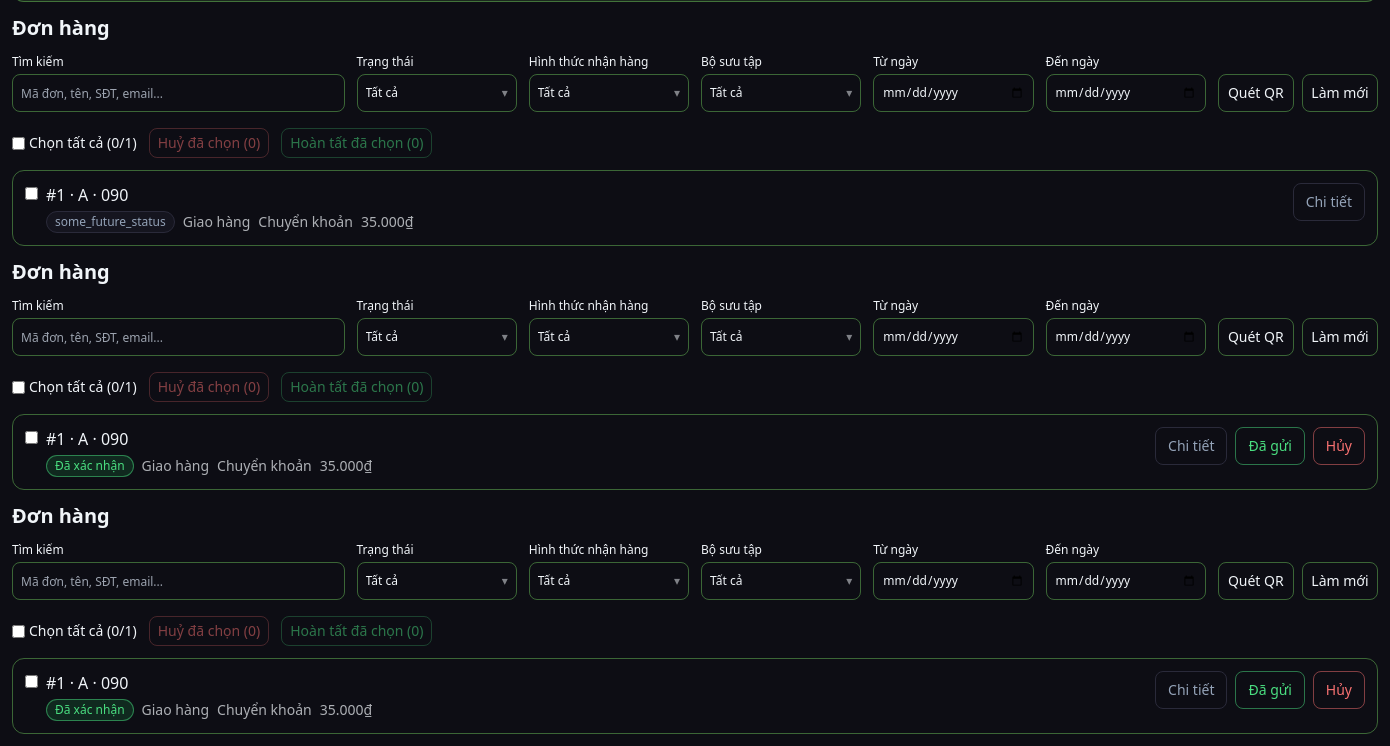
AdminOrders - semantic status/action styling (Admin UI plan) › shows a digital badge and the delivery link for a digital line item
(page scrolled)
Click the 3rd button "Chi tiết" at (1191, 690), box [1155,671,1228,709]
(page scrolled)
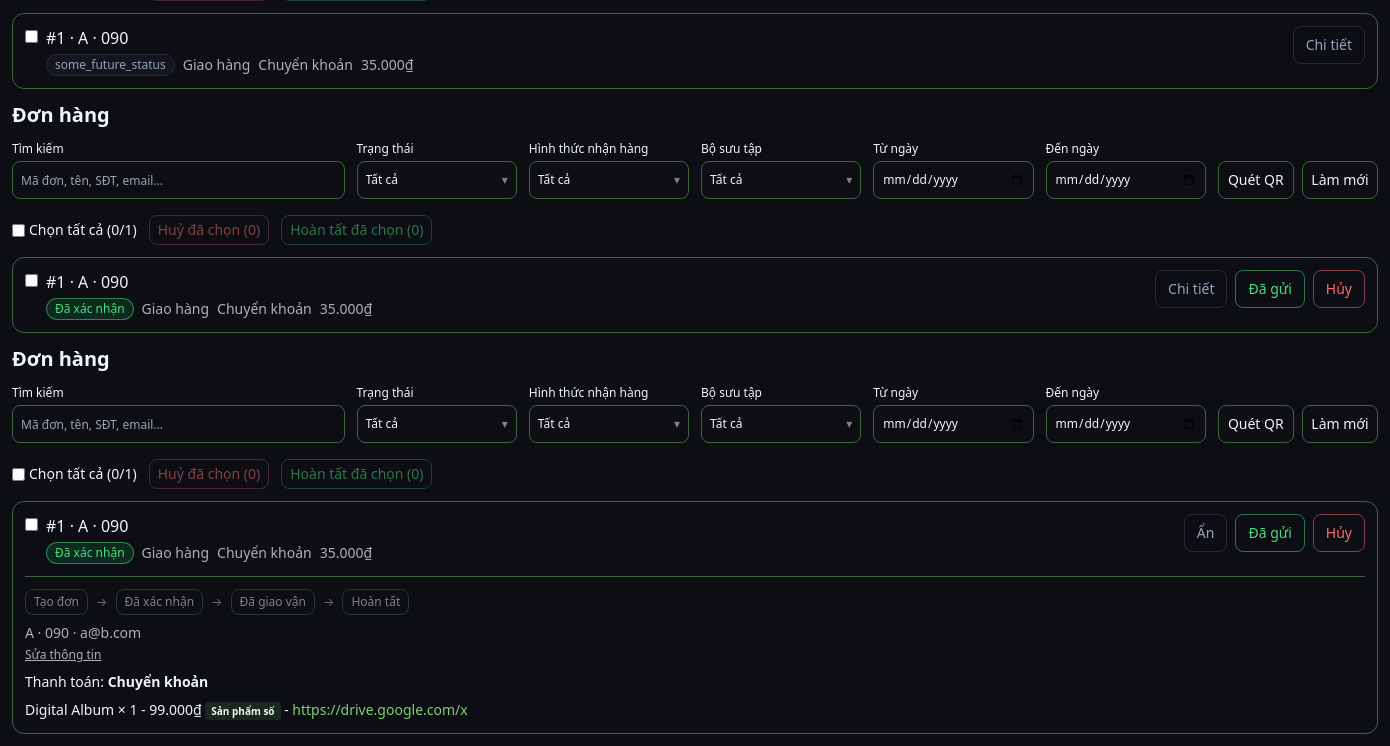
expect the text "Sản phẩm số" is shown: met, box [205,702,281,720]
expect the link to "https://drive.google.com/x" is shown: met, box [292,700,468,719]
